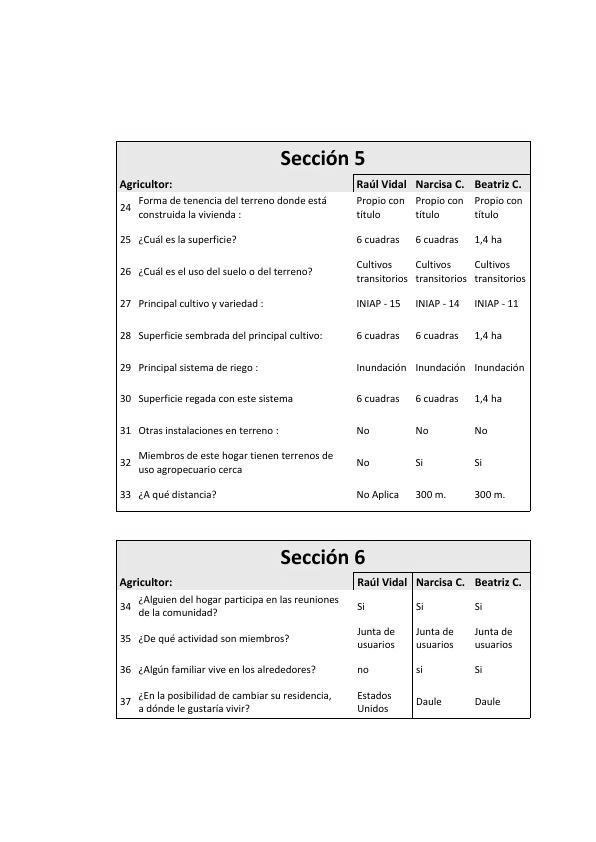table: (111, 134, 535, 518), (111, 535, 534, 727)
